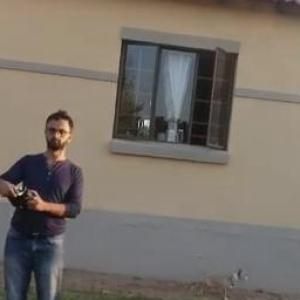follow: (0, 103, 89, 299)
null: (187, 250, 252, 298)
